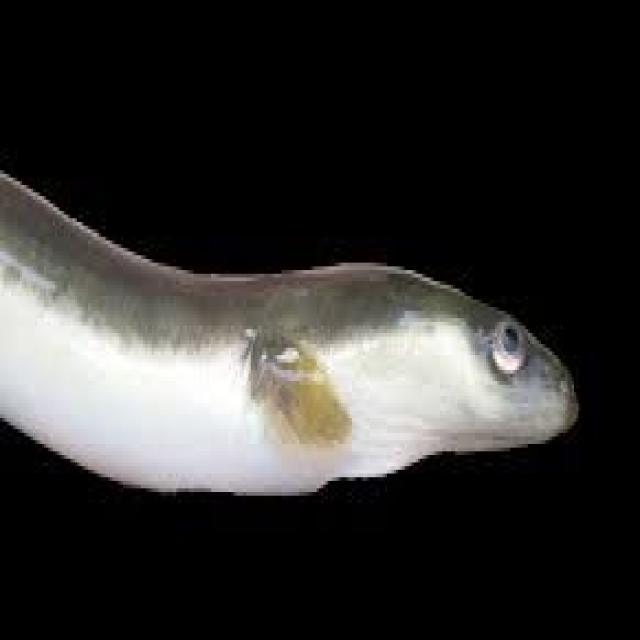Freshwater-Eel: (0, 91, 640, 560)
